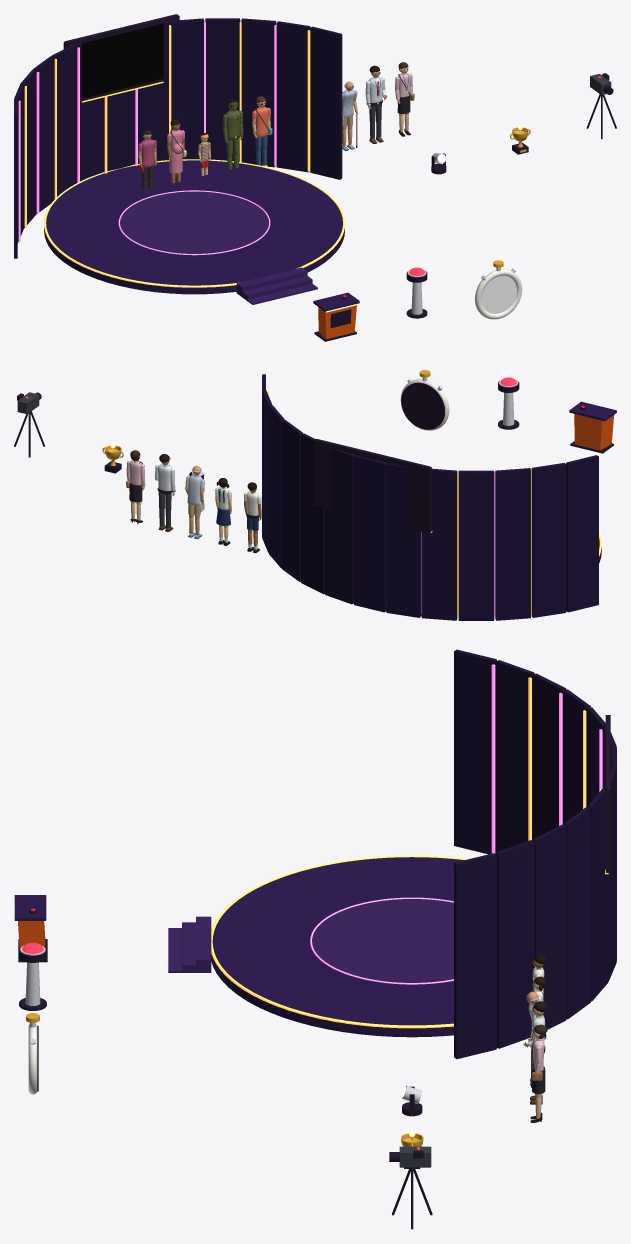
File: studio-assets.glb
3 renders of one model, top to bottom at view 1: azimuth 30°, elevation 25°; view 2: azimuth 150°, elevation 25°; view 3: azimuth 270°, elevation 25°, orthographic. The views are drawn at different scales.
Visible parts, largest first — view 1: SD_deck, SD_inner, BK_p12, BK_p11, BigScreen, BK_p10, BK_p8, BK_p9, BK_p4, BK_p3, BK_p7, BK_p6 (+23 smaller); view 2: BK_p3, BK_p2, BK_p1, BK_p6, BK_p0, BK_p4, BK_p5, BK_p7, BK_frame, BK_p8, BK_p9, BK_p10 (+12 smaller); view 3: SD_deck, SD_inner, BK_p12, BK_p0, BK_p11, BK_p1, BK_p10, BK_p9, BK_p2, BK_p8, BK_p3, SD_led (+7 smaller).
Boxes of the visible parts, x1=… form: SD_deck: x1=44, y1=160, x2=344, y2=294; SD_inner: x1=120, y1=191, x2=268, y2=253; BK_p12: x1=310, y1=26, x2=342, y2=179; BK_p11: x1=276, y1=21, x2=310, y2=172; BigScreen: x1=76, y1=22, x2=169, y2=98; BK_p10: x1=241, y1=18, x2=276, y2=167; BK_p8: x1=169, y1=18, x2=204, y2=159; BK_p9: x1=205, y1=18, x2=240, y2=161; BK_p4: x1=51, y1=45, x2=76, y2=199; BK_p3: x1=33, y1=56, x2=53, y2=214; BK_p7: x1=138, y1=22, x2=168, y2=163; BK_p6: x1=104, y1=90, x2=135, y2=171; BK_p3: x1=458, y1=470, x2=494, y2=620; BK_p2: x1=495, y1=468, x2=530, y2=620; BK_p1: x1=531, y1=462, x2=566, y2=617; BK_p6: x1=353, y1=455, x2=386, y2=612; BK_p0: x1=566, y1=455, x2=598, y2=612; BK_p4: x1=421, y1=468, x2=457, y2=620; BK_p5: x1=386, y1=463, x2=421, y2=617; BK_p7: x1=325, y1=448, x2=354, y2=604; BK_frame: x1=313, y1=439, x2=431, y2=533; BK_p8: x1=300, y1=433, x2=324, y2=594; BK_p9: x1=282, y1=420, x2=302, y2=581; BK_p10: x1=269, y1=405, x2=284, y2=568; SD_deck: x1=211, y1=857, x2=464, y2=1037; SD_inner: x1=312, y1=899, x2=453, y2=982; BK_p12: x1=454, y1=853, x2=496, y2=1058; BK_p0: x1=454, y1=649, x2=496, y2=854; BK_p11: x1=495, y1=840, x2=534, y2=1048; BK_p1: x1=495, y1=660, x2=534, y2=852; BK_p10: x1=532, y1=824, x2=566, y2=1029; BK_p9: x1=563, y1=807, x2=590, y2=1019; BK_p2: x1=532, y1=673, x2=566, y2=840; BK_p8: x1=587, y1=787, x2=607, y2=1001; BK_p3: x1=563, y1=689, x2=590, y2=823; SD_led: x1=211, y1=855, x2=468, y2=1028.
Size of the model in its own units: 14.4 by 4.07 by 9.54.
Materials: 119 (9 with a texture image).
